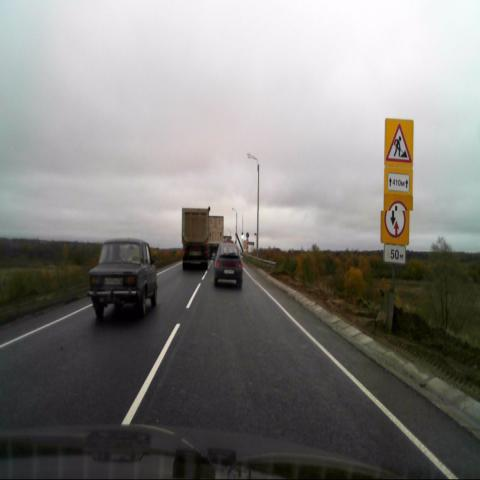1_25: (384, 117, 412, 168)
